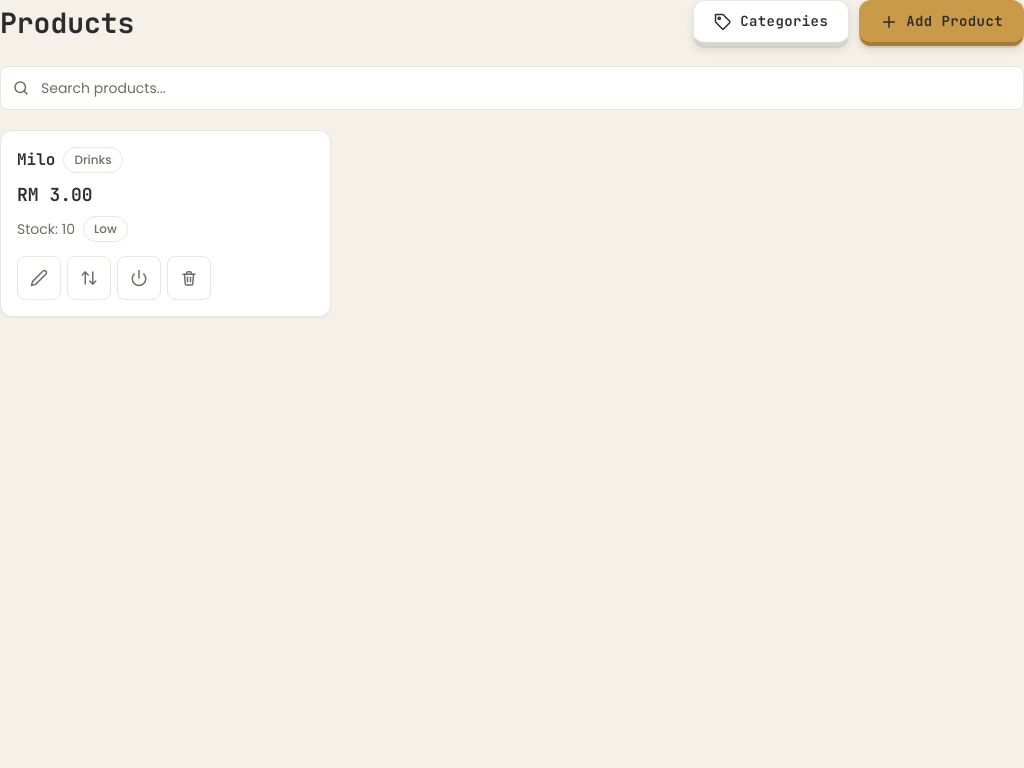
Scenario: ProductsPage › deletes a never-sold product after confirmation
This screenshot has width=1024, height=768.
Step 1. Click the button named "Delete Milo" → click(189, 278), box [167,256,211,300]
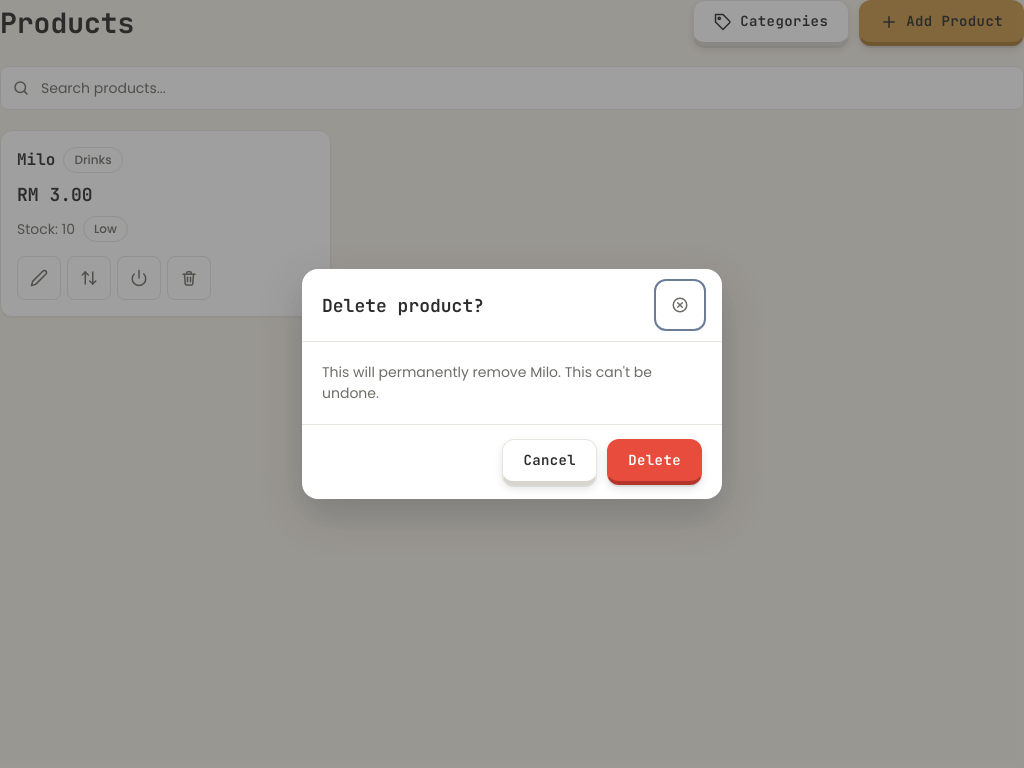
Now the text "This will permanently remove Milo. This can't be undone." is shown, box [322,362,702,404]
Step 2. Click the button "Delete" → click(655, 462), box [607,439,702,485]
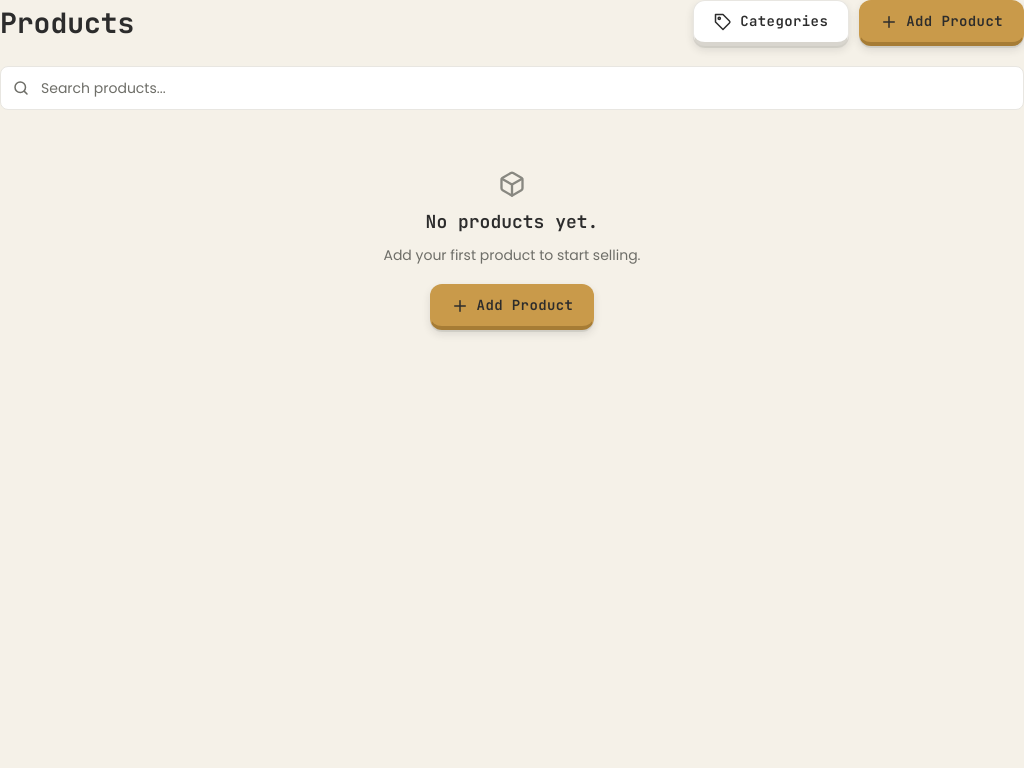
Now the heading "No products yet." is shown, box [426,208,598,235]
